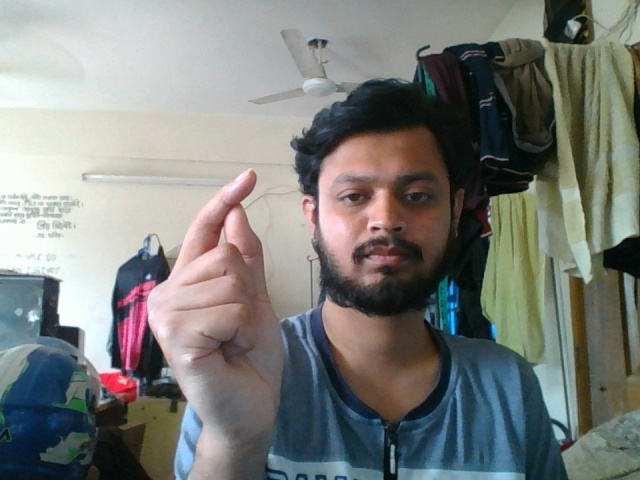tha: (142, 159, 289, 444)
